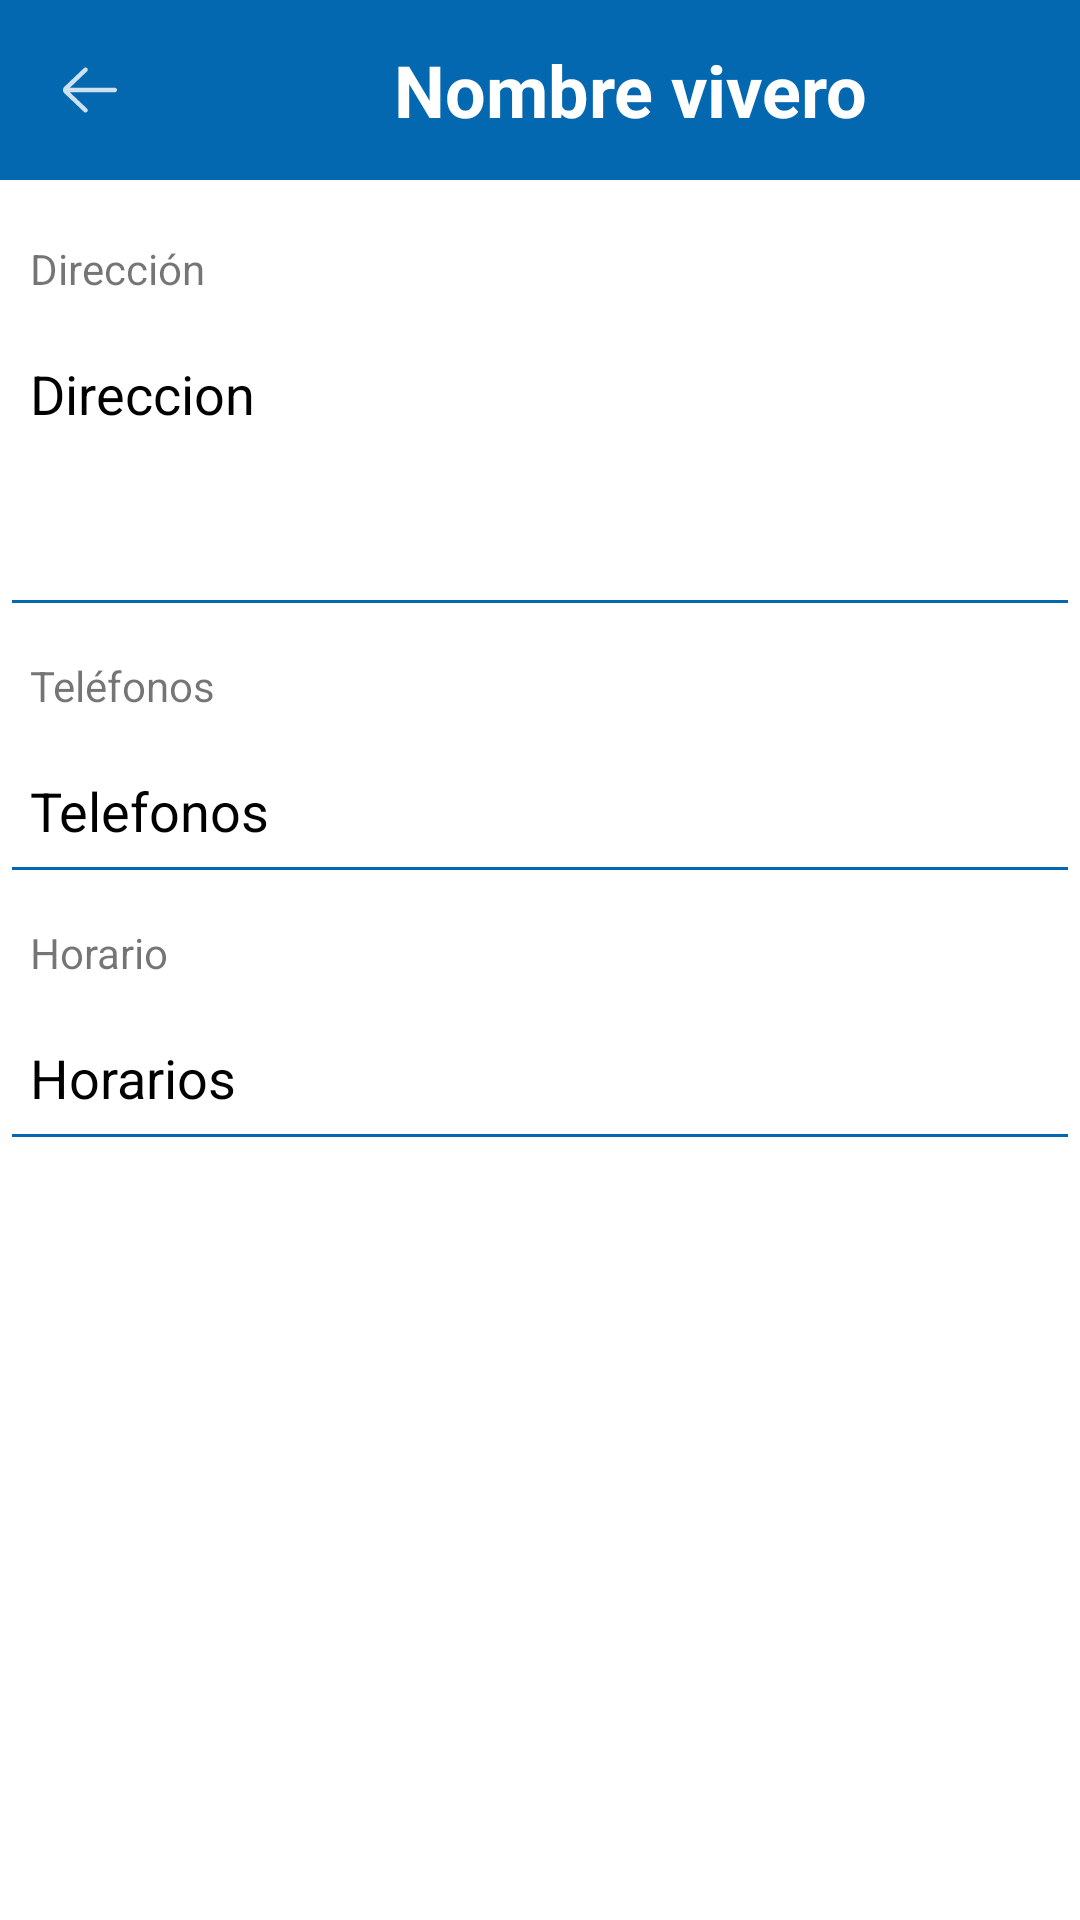

Icons on this 1080w x 1920h Android screen, each with the point to tap as (x,y):
back arrow: (90,90)
